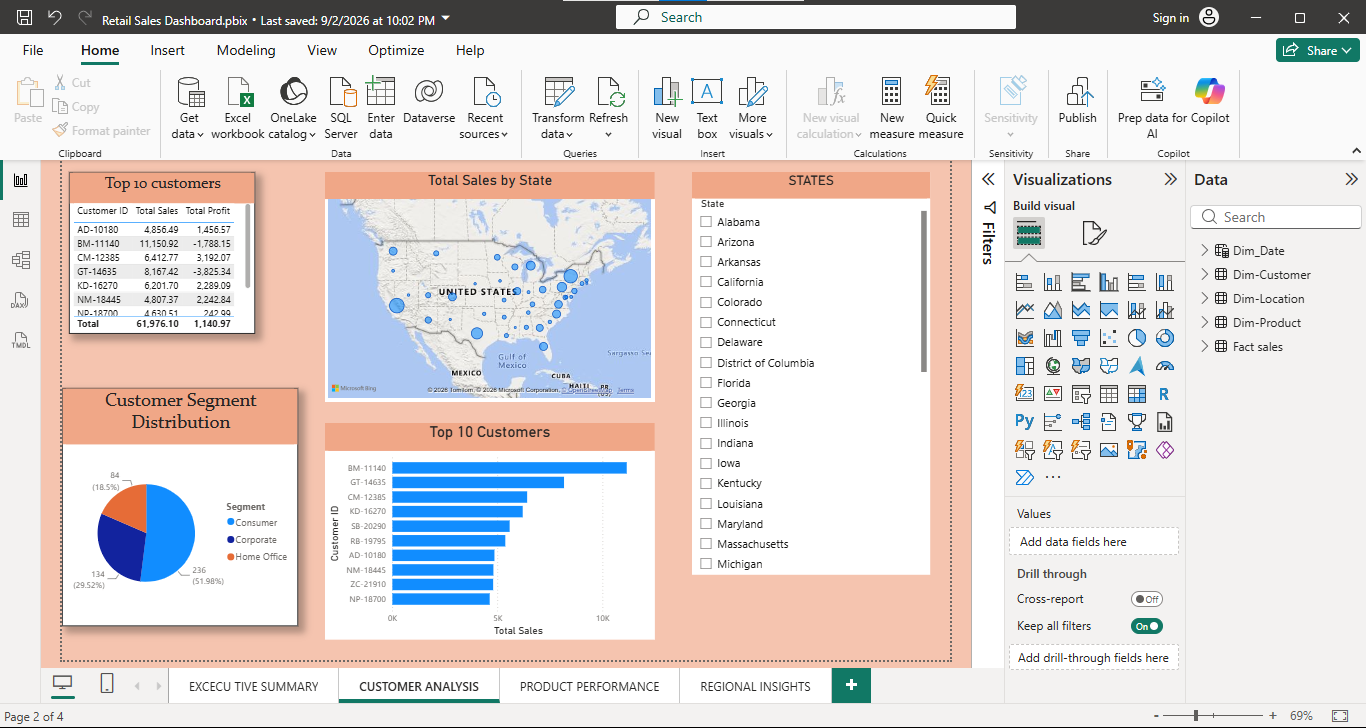

Layout of this report page (visuals, bound fields, positions):
{"tool":"powerbi","page":{"name":"CUSTOMER ANALYSIS","canvas":[1280,720],"ordinal":1},"visuals":[{"type":"tableEx","title":"Top 10 customers","fields":{"Values":["Dim-Customer.Customer ID","Fact sales.Total Sales","Fact sales.Total Profit"]},"box":[10.1,17.3,267.8,233.3],"z":0},{"type":"pieChart","title":"Customer Segment Distribution","fields":{"Category":["Dim-Customer.Segment"],"Y":["Fact sales.Total Customers"]},"box":[0,328.3,339.8,342.7],"z":1000},{"type":"map","fields":{"Category":["Dim-Location.State"],"Size":["Fact sales.Total Sales"]},"box":[378.7,17.3,475.2,331.2],"z":2000},{"type":"clusteredBarChart","title":"Top 10  Customers ","fields":{"Category":["Fact sales.Customer ID"],"Y":["Fact sales.Total Sales"]},"box":[378.7,378.7,475.2,312.5],"z":3000},{"type":"slicer","title":"STATES","fields":{"Values":["Dim-Location.State"]},"box":[907.2,17.3,342.7,580.3],"z":4000}]}

Visuals, with their boxes on the page's 1280x720 design canvas (x1, y1, x2, y2). These are canvas units, not pixel positions in the 1366x728 screenshot, which may show the page scaled, cropped or inside an application window:
"Top 10 customers" tableEx: 10:17:278:251
"Customer Segment Distribution" pieChart: 0:328:340:671
map - Dim-Location.State x Fact sales.Total Sales: 379:17:854:348
"Top 10  Customers " clusteredBarChart: 379:379:854:691
"STATES" slicer: 907:17:1250:598
